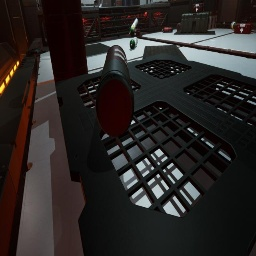0: (129, 18, 138, 35), (130, 37, 138, 49), (231, 21, 237, 29)
FireExtinguisher ]: (162, 27, 173, 33)
FirstAidBox ,: (234, 20, 253, 34), (192, 0, 205, 13), (131, 26, 140, 37)
NitrogenTank ,: (95, 45, 134, 137), (176, 22, 181, 31)
